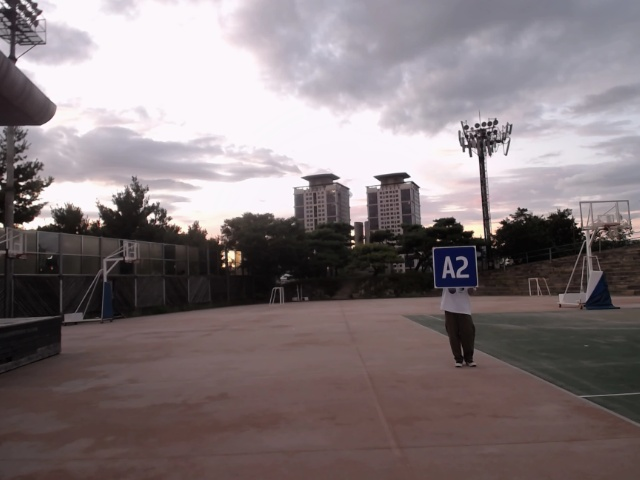delivery_a2: (433, 246, 478, 288)
